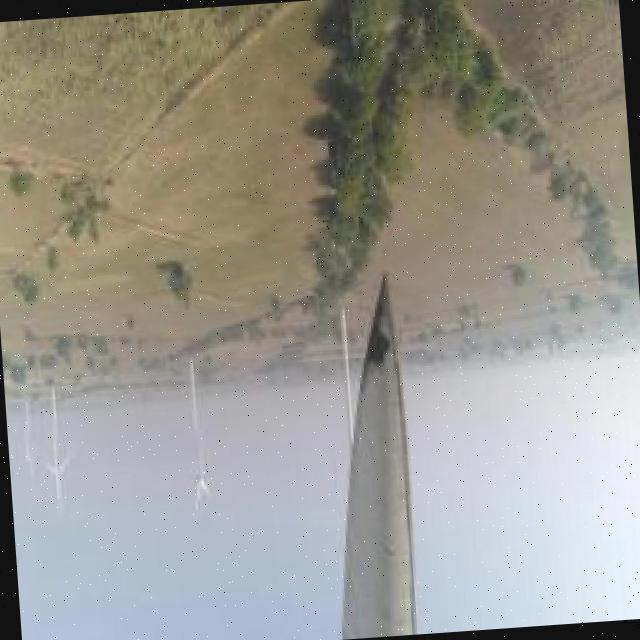Dirt: (341, 277, 415, 640)
Oil LEAKAGE: (360, 278, 394, 374)
